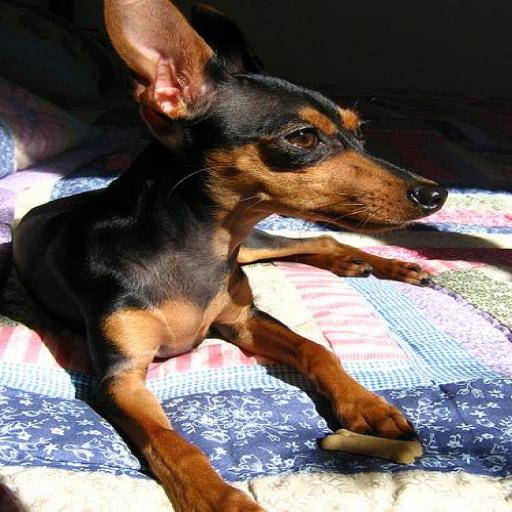dog_face: (116, 12, 462, 224)
